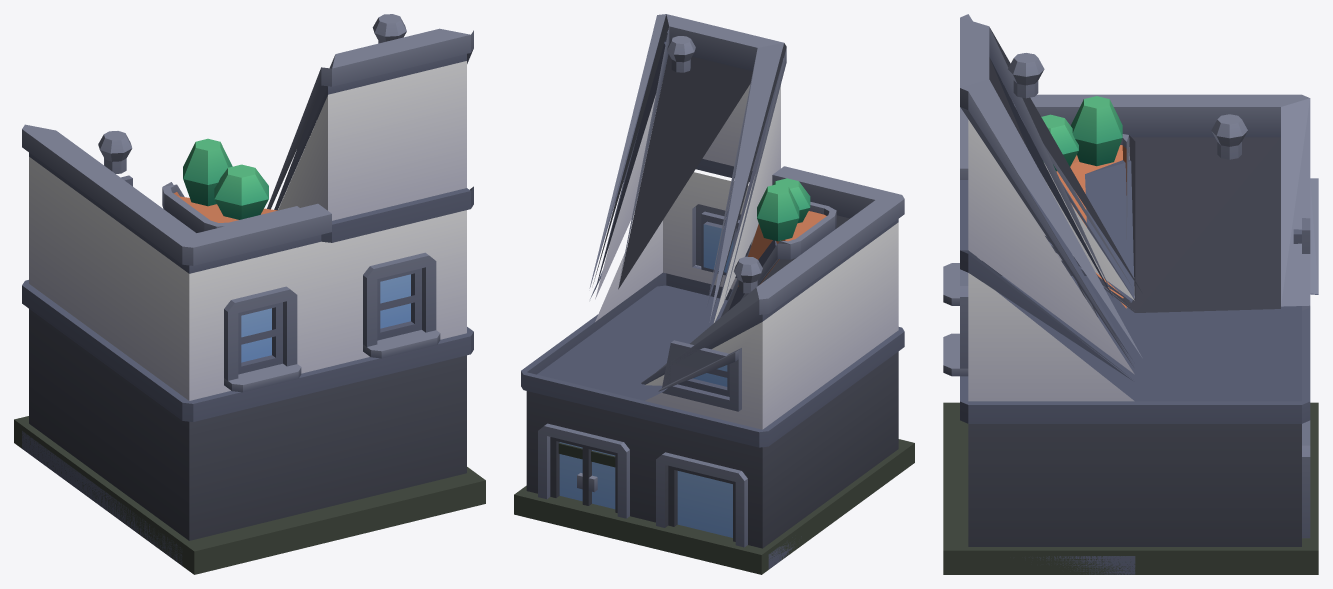
The model's file is building-d-ruined.glb.
3 views of the same model, side by side, from view 1: azimuth 30°, elevation 25°; view 2: azimuth 150°, elevation 25°; view 3: azimuth 270°, elevation 25° (orthographic). The views are drawn at different scales.
Visible parts, largest first — view 1: building-d-ruined; view 2: building-d-ruined; view 3: building-d-ruined.
Part boxes in pixels (x1=…): building-d-ruined: x1=14, y1=14, x2=485, y2=574; building-d-ruined: x1=514, y1=14, x2=914, y2=574; building-d-ruined: x1=943, y1=14, x2=1318, y2=574.
Size of the model in its own units: 0.84 by 1.29 by 0.9.
6 materials, 1 textured.
